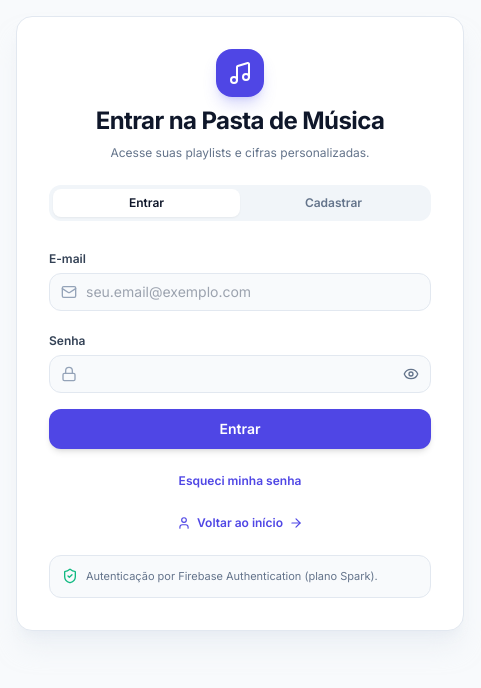
Test: Autenticação › valida senha curta e confirmação no cadastro
The width and height of the screenshot is (481, 688).
Click the tab "Cadastrar" at (334, 203), box [240,189,427,217]
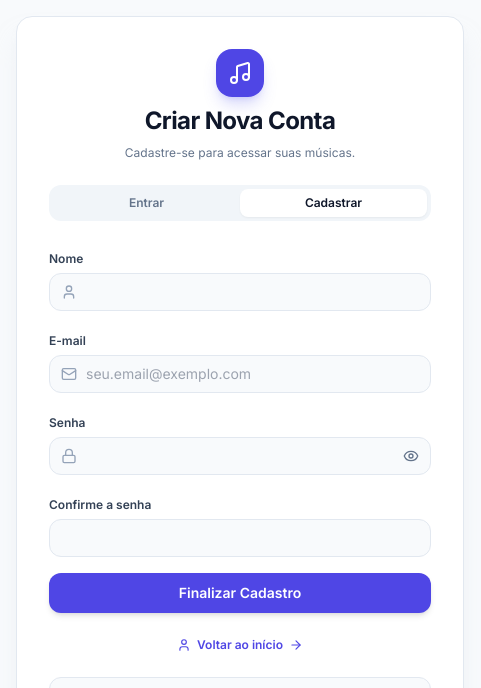
Type "Ana" into the field labelled "Nome" at (240, 292), box [49,273,431,311]
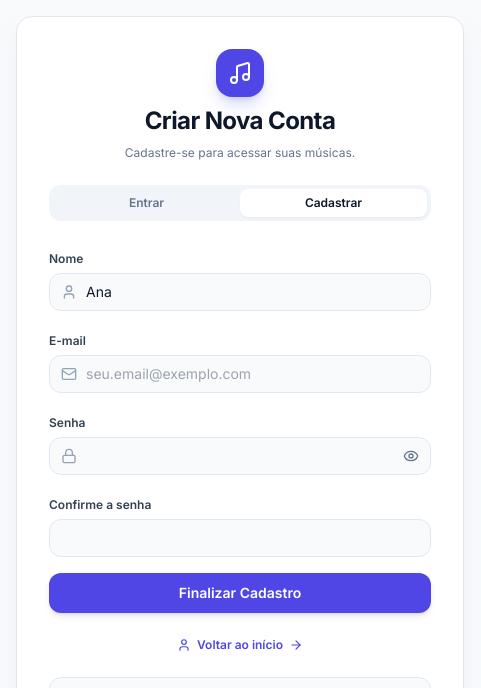
Type "ana@example.com" into the field labelled "E-mail" at (240, 374), box [49,355,431,393]
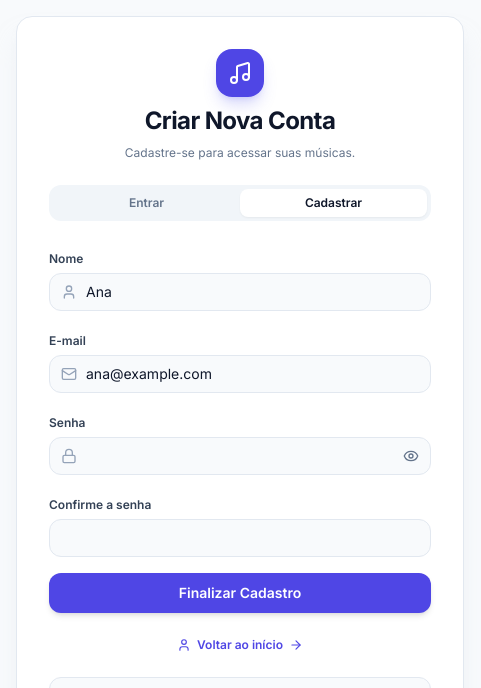
Type "123" into the password field labelled "Senha" at (240, 456), box [49,437,431,475]
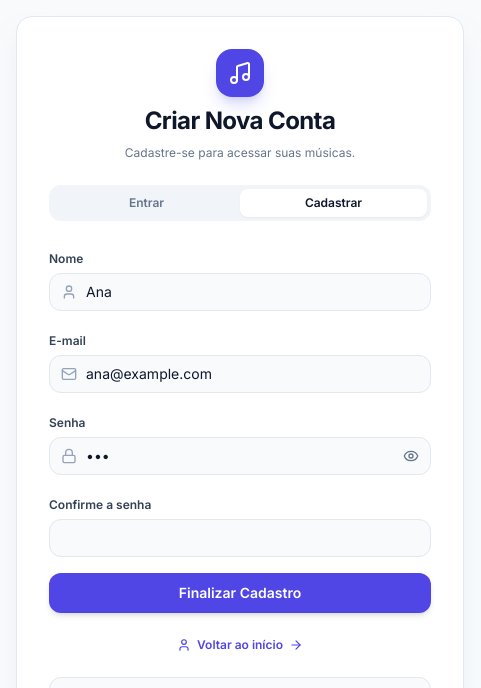
Type "456" into the password field labelled "Confirme a senha" at (240, 538), box [49,519,431,557]
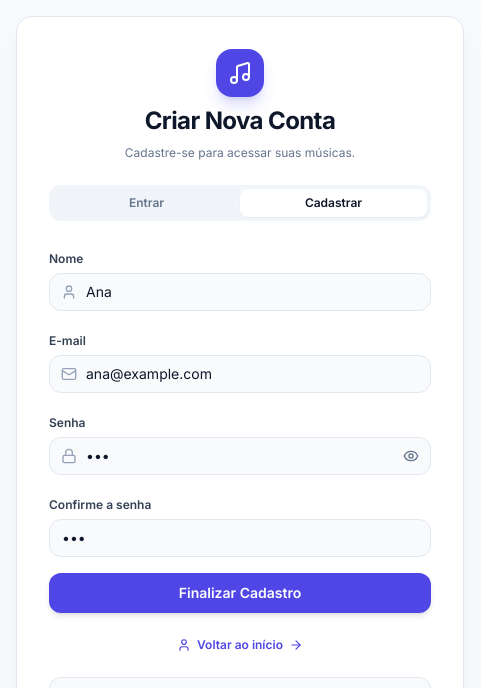
Click the button "Finalizar Cadastro" at (240, 593), box [49,573,431,613]
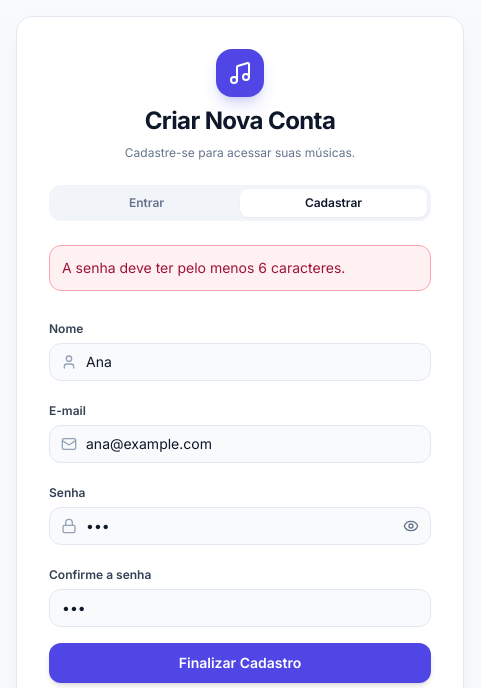
Now the message shows "pelo menos 6 caracteres", box [62,259,345,276]
